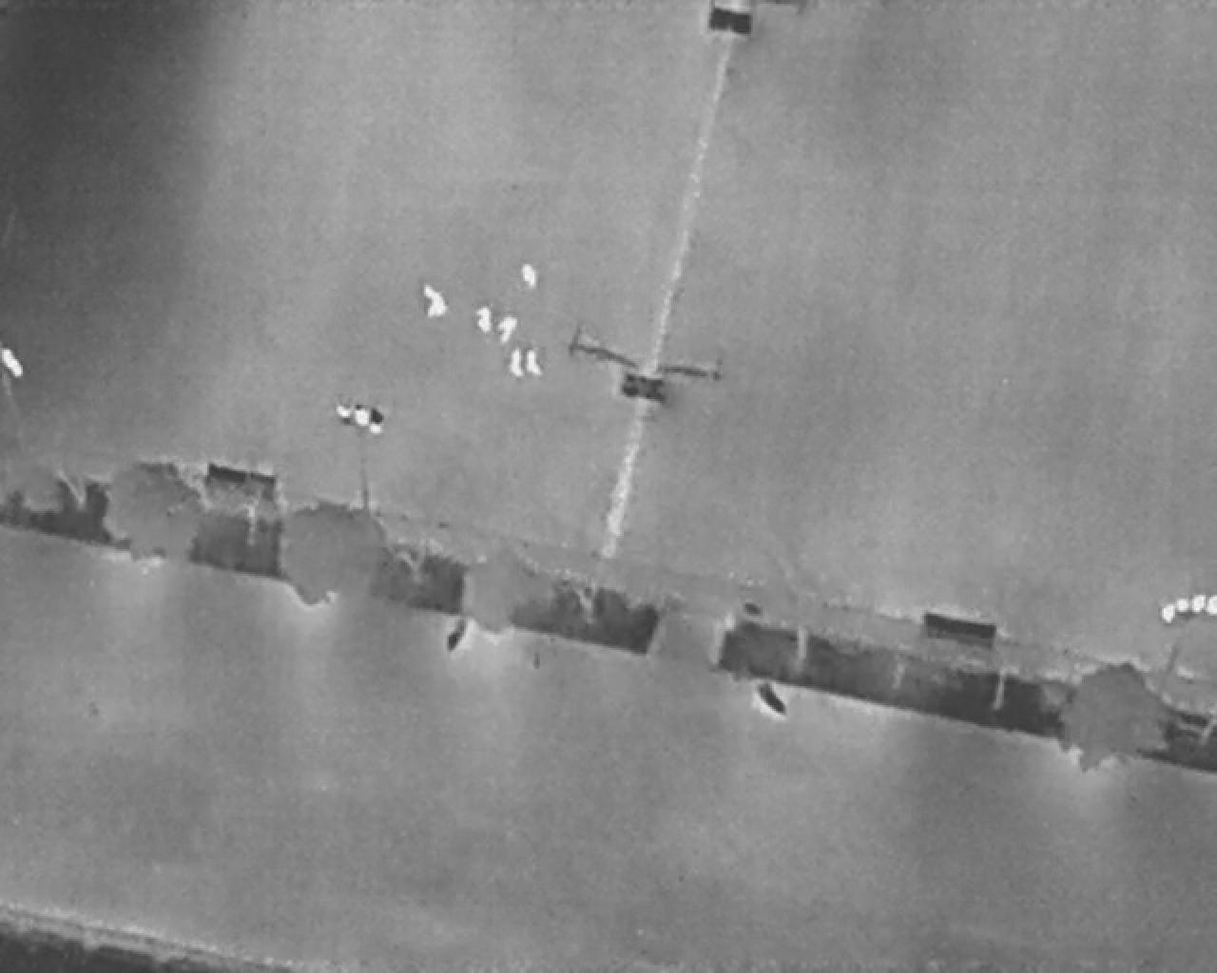person: (425, 284, 448, 320), (520, 261, 539, 290), (499, 316, 518, 345), (526, 349, 543, 377), (511, 349, 526, 379), (478, 309, 493, 335)
